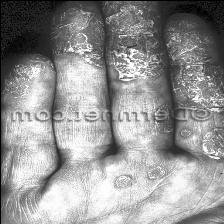Non-Cancerous Skin Condition: (2, 0, 224, 107), (128, 120, 224, 180)
